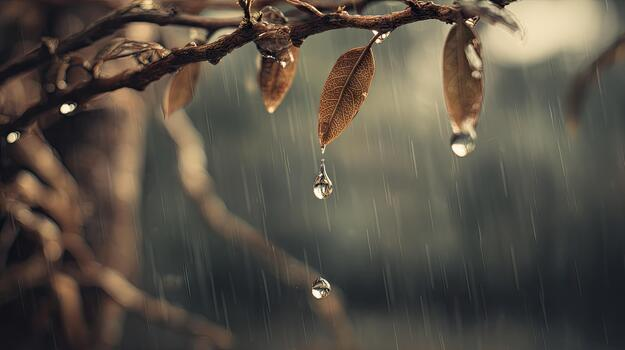water drop: (312, 164, 335, 200), (448, 130, 476, 157), (309, 274, 335, 302)
